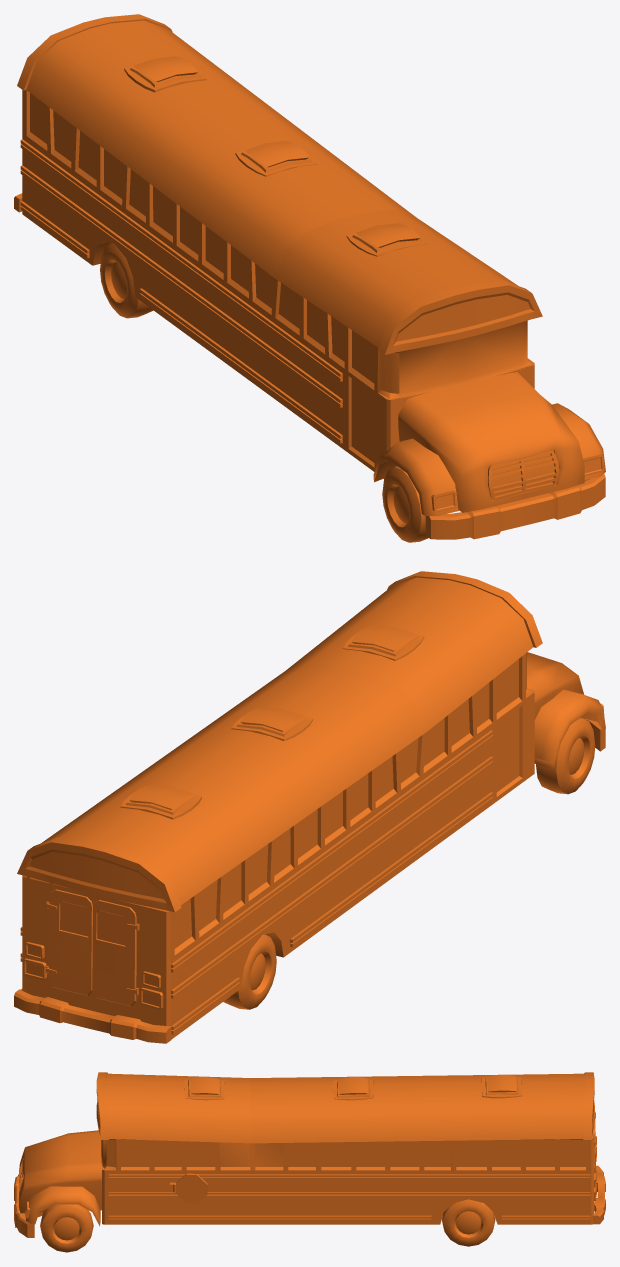
File: School Bus.FBX
The picture shows the model from 3 angles, top to bottom: view 1: azimuth 30°, elevation 25°; view 2: azimuth 150°, elevation 25°; view 3: azimuth 270°, elevation 25°; orthographic projection. The views are drawn at different scales.
Parts seen in each view (by area): view 1: Bus, Front Right, Back Right; view 2: Bus, Front Right, Back Right; view 3: Bus, Front Left, Back Left.
Part boxes in pixels (box(x1,y1,x2,y2)): Bus: box(14, 14, 605, 539); Front Right: box(382, 466, 428, 542); Back Right: box(100, 243, 153, 318); Bus: box(14, 571, 605, 1043); Front Right: box(536, 717, 595, 794); Back Right: box(223, 934, 276, 1009); Bus: box(14, 1072, 605, 1237); Front Left: box(40, 1204, 93, 1252); Back Left: box(442, 1199, 495, 1246).
Size of the model in its own units: 1.66 by 1.89 by 6.97.
